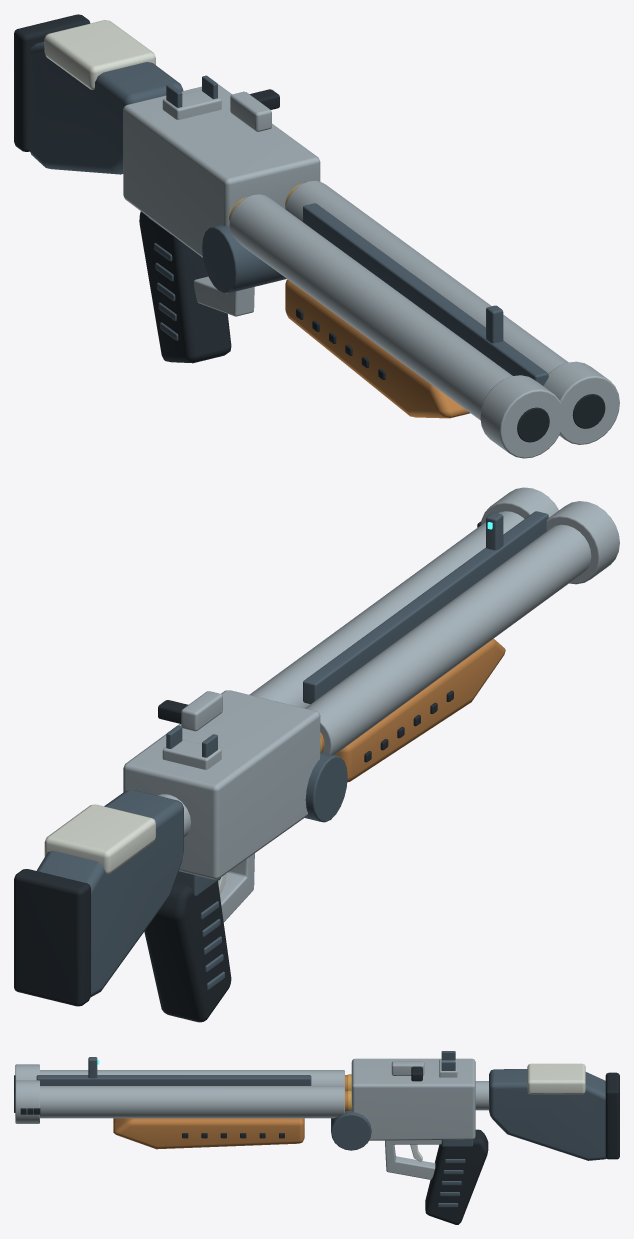
Rendered from weapon_05.glb.
3 views of the same model, one above another, from view 1: azimuth 30°, elevation 25°; view 2: azimuth 150°, elevation 25°; view 3: azimuth 270°, elevation 25° (orthographic). The views are drawn at different scales.
Parts seen in each view (by area): view 1: break_action / Titanium, receiver / Titanium, receiver / Cerakote midnight, break_action / Cerakote midnight, pistol_grip / Elastomer, break_action / Ochre armour, receiver / Ceramic, receiver / Elastomer, break_action / Elastomer, charging_handle / Titanium, pistol_grip / Cerakote midnight; view 2: break_action / Titanium, receiver / Titanium, receiver / Cerakote midnight, receiver / Elastomer, pistol_grip / Elastomer, break_action / Cerakote midnight, break_action / Ochre armour, receiver / Ceramic, pistol_grip / Cerakote midnight, charging_handle / Titanium; view 3: break_action / Titanium, receiver / Titanium, receiver / Cerakote midnight, break_action / Ochre armour, pistol_grip / Elastomer, break_action / Cerakote midnight, receiver / Ceramic, receiver / Elastomer, pistol_grip / Cerakote midnight, break_action / Elastomer, charging_handle / Titanium.
Part boxes in pixels (x1,y1,x2,y2): break_action / Titanium: (229,180,619,458); receiver / Titanium: (123,84,320,316); receiver / Cerakote midnight: (29,41,286,293); break_action / Cerakote midnight: (303,203,548,385); pistol_grip / Elastomer: (139,211,231,363); break_action / Ochre armour: (285,279,470,418); receiver / Ceramic: (44,20,155,89); receiver / Elastomer: (14,14,90,151); break_action / Elastomer: (296,308,605,442); charging_handle / Titanium: (230,91,271,131); pistol_grip / Cerakote midnight: (148,217,178,340); break_action / Titanium: (249,487,619,754); receiver / Titanium: (123,690,320,922); receiver / Cerakote midnight: (36,725,347,997); receiver / Elastomer: (14,869,90,1006); pistol_grip / Elastomer: (144,881,231,1022); break_action / Cerakote midnight: (303,511,548,704); break_action / Ochre armour: (335,638,505,782); receiver / Ceramic: (44,804,155,874); pistol_grip / Cerakote midnight: (174,871,224,990); charging_handle / Titanium: (181,691,222,731); break_action / Titanium: (15,1064,344,1123); receiver / Titanium: (351,1058,488,1179); receiver / Cerakote midnight: (331,1051,606,1160); break_action / Ochre armour: (113,1118,304,1149); pistol_grip / Elastomer: (425,1129,488,1224); break_action / Cerakote midnight: (36,1057,311,1085); receiver / Ceramic: (527,1063,585,1094); receiver / Elastomer: (605,1072,619,1159); pistol_grip / Cerakote midnight: (438,1139,473,1207); break_action / Elastomer: (14,1075,284,1138); charging_handle / Titanium: (391,1061,424,1075).
Size of the model in its own units: 0.1845 by 0.4031 by 1.35.
